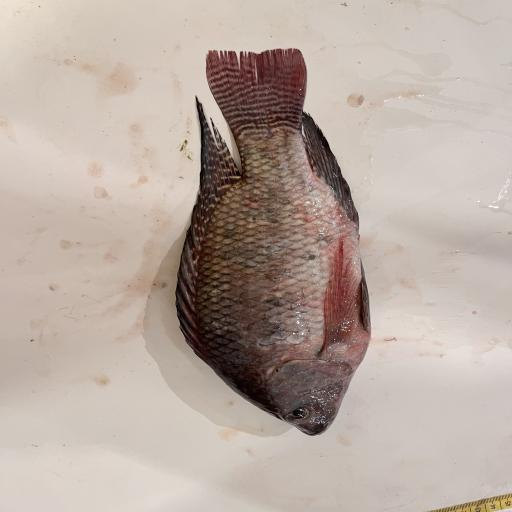Tilapia: (176, 48, 372, 437)
